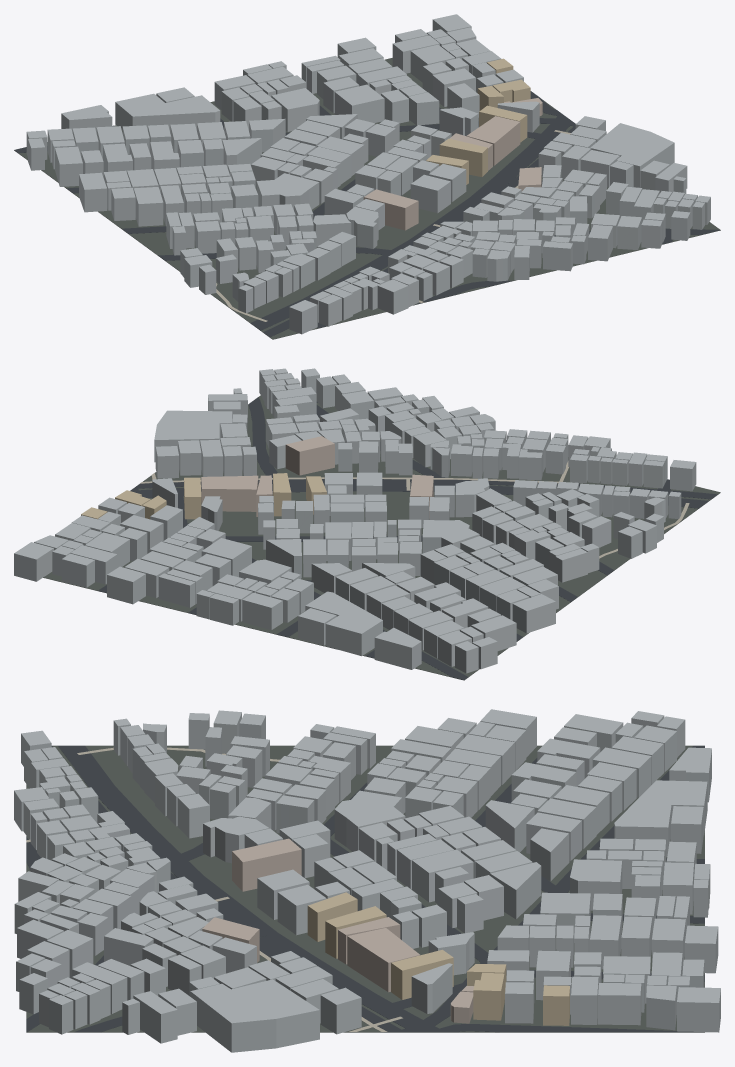
File: tile_002_010.glb
3 views of the same model, one above another, from view 1: azimuth 30°, elevation 25°; view 2: azimuth 150°, elevation 25°; view 3: azimuth 270°, elevation 25° (orthographic). The views are drawn at different scales.
Visible parts, largest first — view 1: tile_002_010_buildings_neutral, tile_002_010_ground, tile_002_010_roads, tile_002_010_buildings_residential, tile_002_010_buildings_retail; view 2: tile_002_010_buildings_neutral, tile_002_010_ground, tile_002_010_roads, tile_002_010_buildings_residential, tile_002_010_buildings_retail, tile_002_010_paths; view 3: tile_002_010_buildings_neutral, tile_002_010_ground, tile_002_010_roads, tile_002_010_buildings_residential, tile_002_010_buildings_retail, tile_002_010_paths.
Part boxes in pixels (x1,y1,x2,y2): tile_002_010_buildings_neutral: [26, 14, 710, 334]; tile_002_010_ground: [14, 58, 720, 339]; tile_002_010_roads: [14, 91, 720, 336]; tile_002_010_buildings_residential: [363, 98, 542, 230]; tile_002_010_buildings_retail: [426, 58, 530, 184]; tile_002_010_buildings_neutral: [14, 368, 696, 673]; tile_002_010_ground: [43, 395, 720, 680]; tile_002_010_roads: [98, 397, 717, 679]; tile_002_010_buildings_residential: [201, 436, 433, 518]; tile_002_010_buildings_retail: [81, 473, 326, 519]; tile_002_010_paths: [140, 461, 689, 558]; tile_002_010_buildings_neutral: [14, 709, 720, 1052]; tile_002_010_ground: [26, 745, 704, 1032]; tile_002_010_roads: [26, 745, 704, 1032]; tile_002_010_buildings_residential: [202, 838, 473, 1023]; tile_002_010_buildings_retail: [307, 892, 569, 1025]; tile_002_010_paths: [26, 747, 402, 1031].
Size of the model in its own units: 274 by 12.96 by 261.
